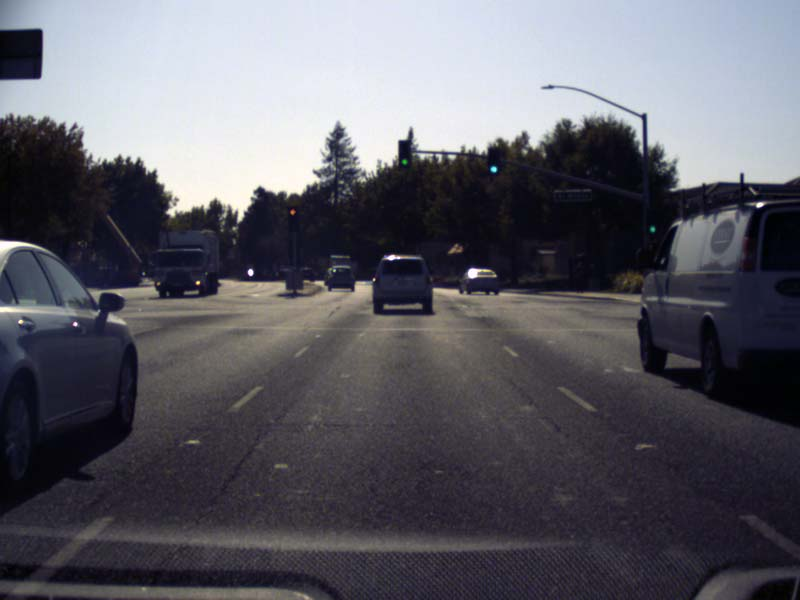Green: (398, 140, 412, 167), (488, 148, 500, 175), (646, 212, 658, 236)
Red: (287, 206, 298, 230)
